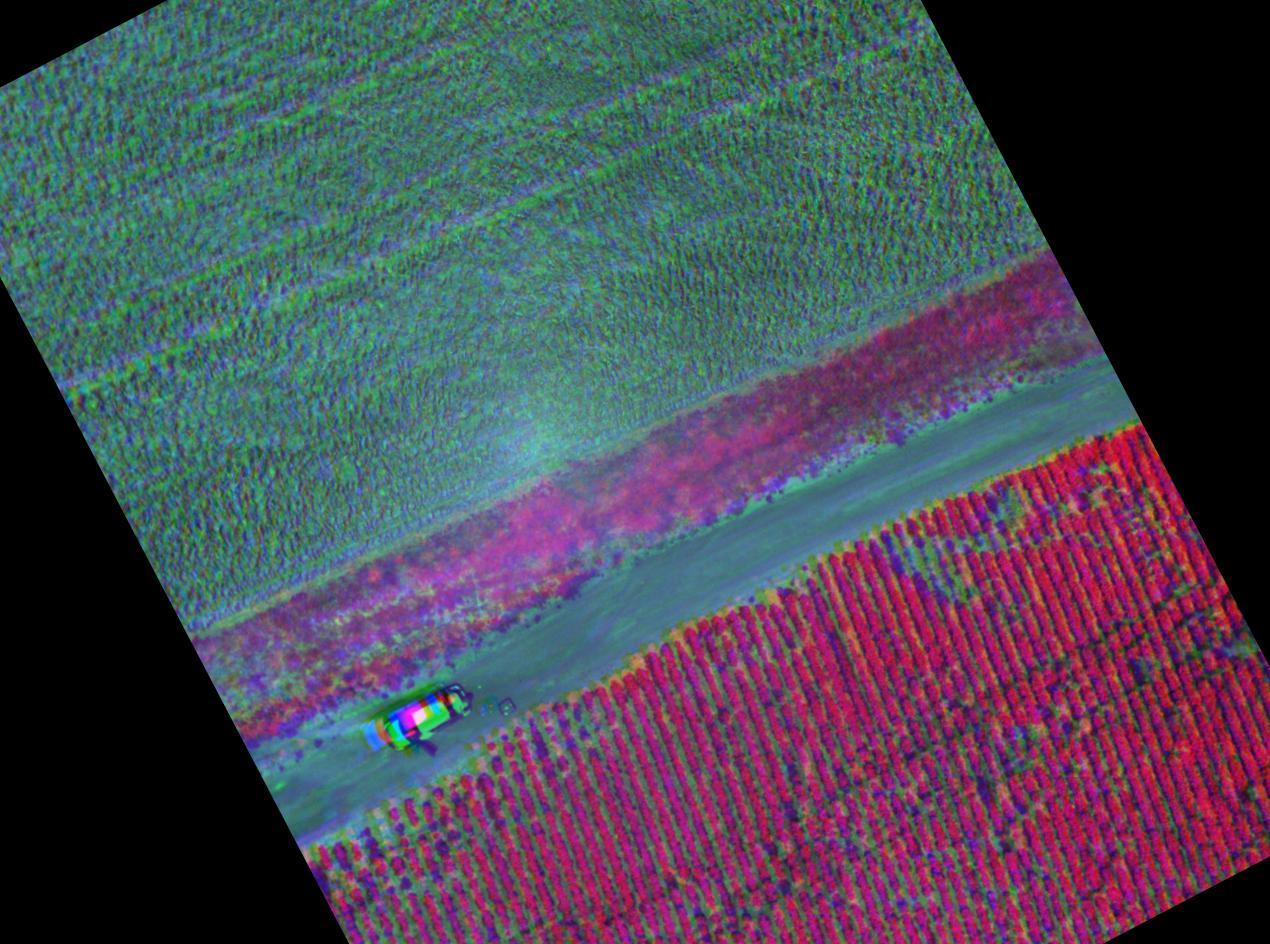dc: (357, 829, 453, 909), (893, 527, 989, 601), (994, 489, 1061, 537), (445, 754, 507, 797)
